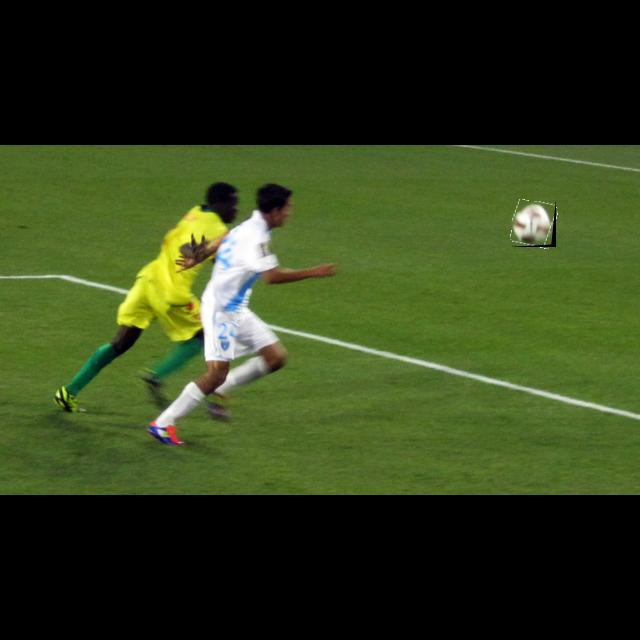Football: (512, 201, 556, 247)
